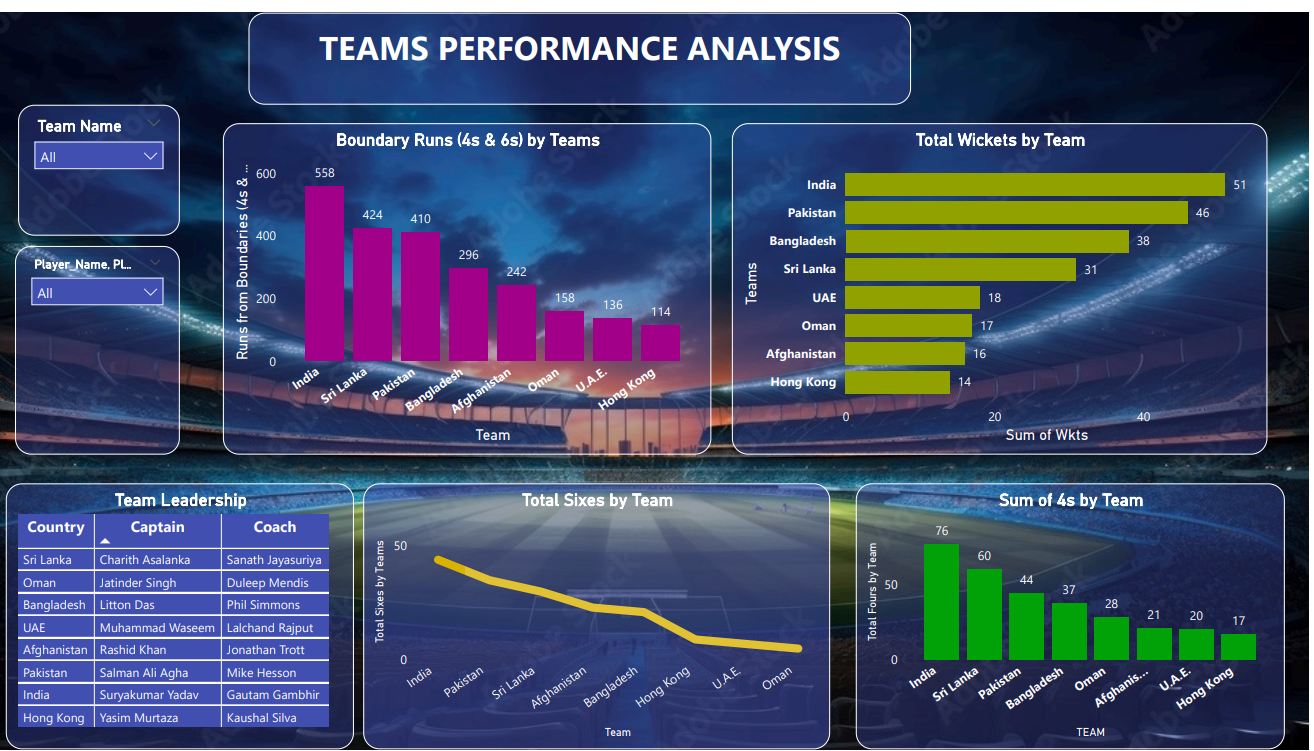

The page's visual inventory and layout, read from the dashboard file:
{"tool":"powerbi","page":{"name":"Teams Performance analysis","canvas":[1280,720],"ordinal":1},"visuals":[{"type":"textbox","box":[245,0,646.7,90],"z":0},{"type":"slicer","title":"Team Name","fields":{"Values":["Teams.Team_Name"]},"box":[20,90,158.3,128.3],"z":1000},{"type":"slicer","fields":{"Values":["Players.Player_Name","Players.Player_ID","Players.Role"]},"box":[16.7,228.3,161.7,263.3],"z":2000},{"type":"clusteredColumnChart","title":"Boundary Runs (4s & 6s) by Teams","fields":{"Category":["MostRunsfromSixesorFours.Team"],"Y":["Sum(MostRunsfromSixesorFours.4+6)"]},"box":[193.3,108.3,446.7,323.3],"z":3000},{"type":"barChart","title":"Total Wickets by Team","fields":{"Category":["MostW.Teams"],"Y":["Sum(MostW.Wkts)"]},"box":[656.7,108.3,431.7,323.3],"z":4000},{"type":"lineChart","title":"Total Sixes by Team","fields":{"Category":["HScore.Team"],"Y":["Sum(HScore.6s)"]},"box":[188.3,446.7,456.7,260],"z":4001},{"type":"columnChart","fields":{"Category":["HScore.Team"],"Y":["Sum(HScore.4s)"]},"box":[670,446.7,418.3,260],"z":4002}]}

Visuals, with their boxes in screenshot pixels (x1, y1, x2, y2), scaled from the page's 1280x720 canvas onto the 1314x751 screenshot:
textbox: Rect(252, 0, 915, 94)
"Team Name" slicer: Rect(21, 94, 183, 228)
slicer - Players.Player_Name x Players.Player_ID: Rect(17, 238, 183, 513)
"Boundary Runs (4s & 6s) by Teams" clusteredColumnChart: Rect(198, 113, 657, 450)
"Total Wickets by Team" barChart: Rect(674, 113, 1117, 450)
"Total Sixes by Team" lineChart: Rect(193, 466, 662, 737)
columnChart - HScore.Team x Sum(HScore.4s): Rect(688, 466, 1117, 737)
